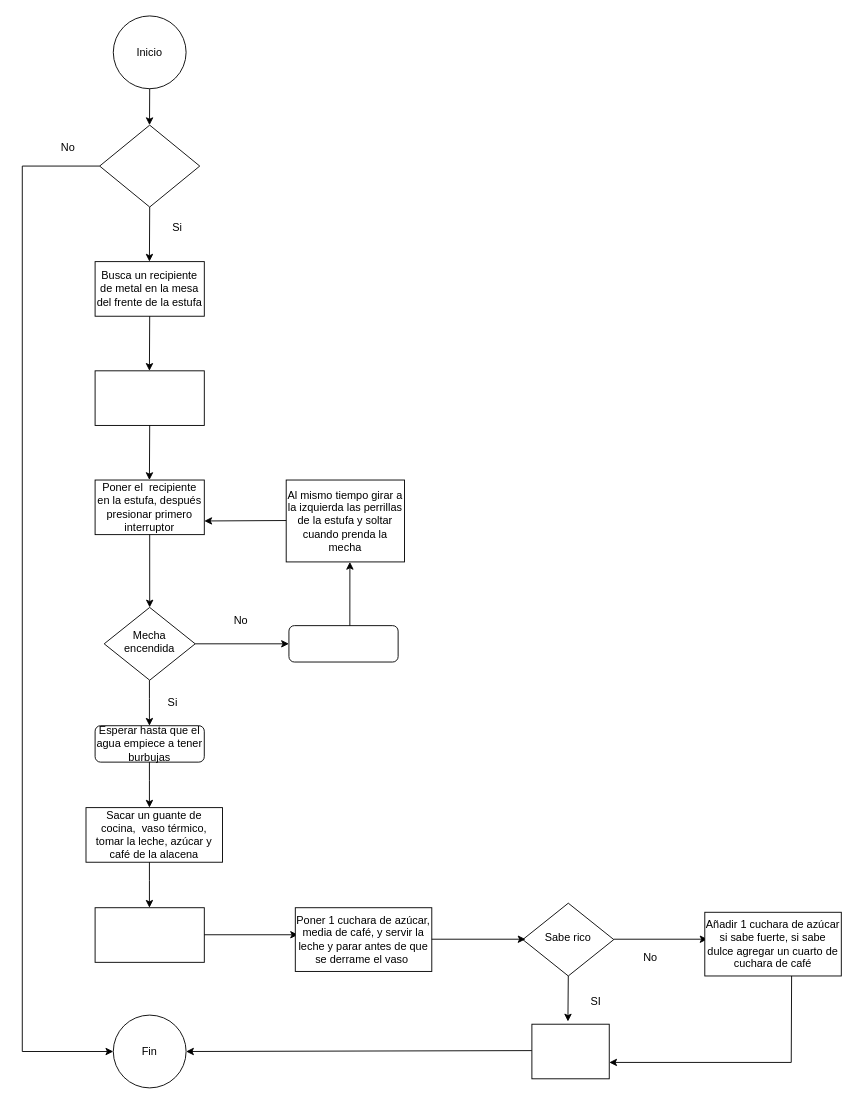
Some shapes in this 857 by 1104 pixel diagram are drawn without their labels. Here are the shapes that lost their labels. From the top down, the box of each, then its label:
(99, 124, 200, 207): ¿Quieres tomar café?
(94, 370, 204, 425): Llena hasta la mitad el recipiente con agua del botellon
(288, 625, 398, 662): Cambiar de mecha
(94, 907, 204, 962): Usar un guante de cocina y servir el agua hasta la mitad del vaso térmico
(531, 1023, 609, 1079): Tomar café
